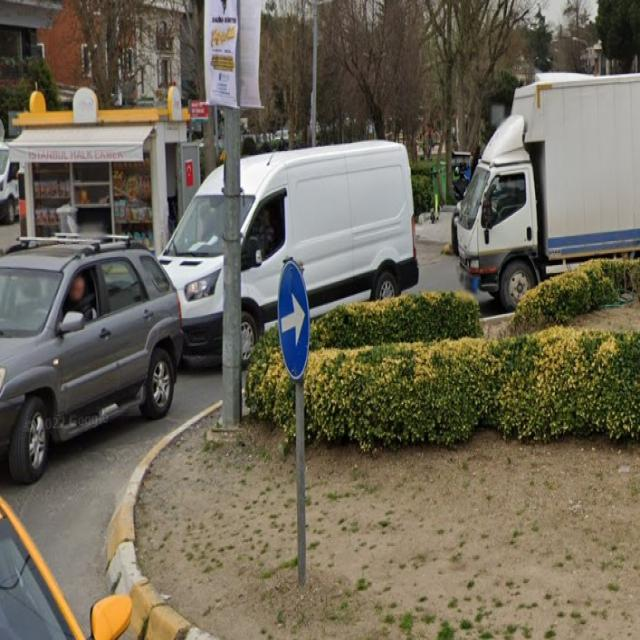Turn Right: (271, 262, 317, 383)
